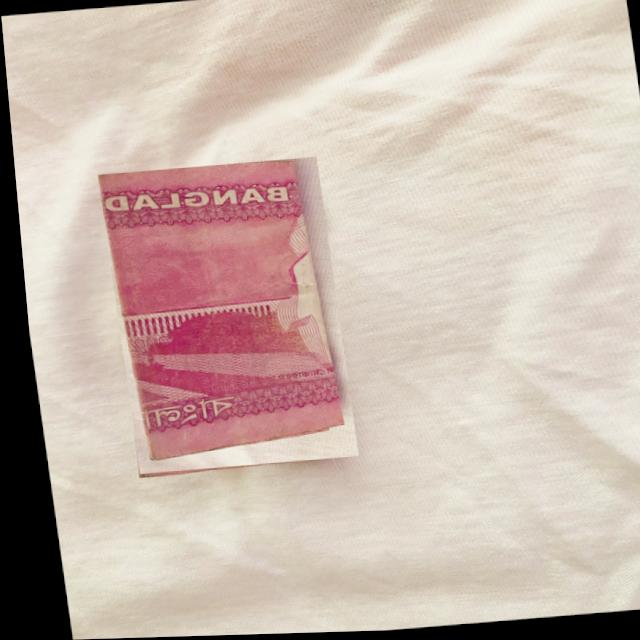Taka: (95, 159, 351, 475)
